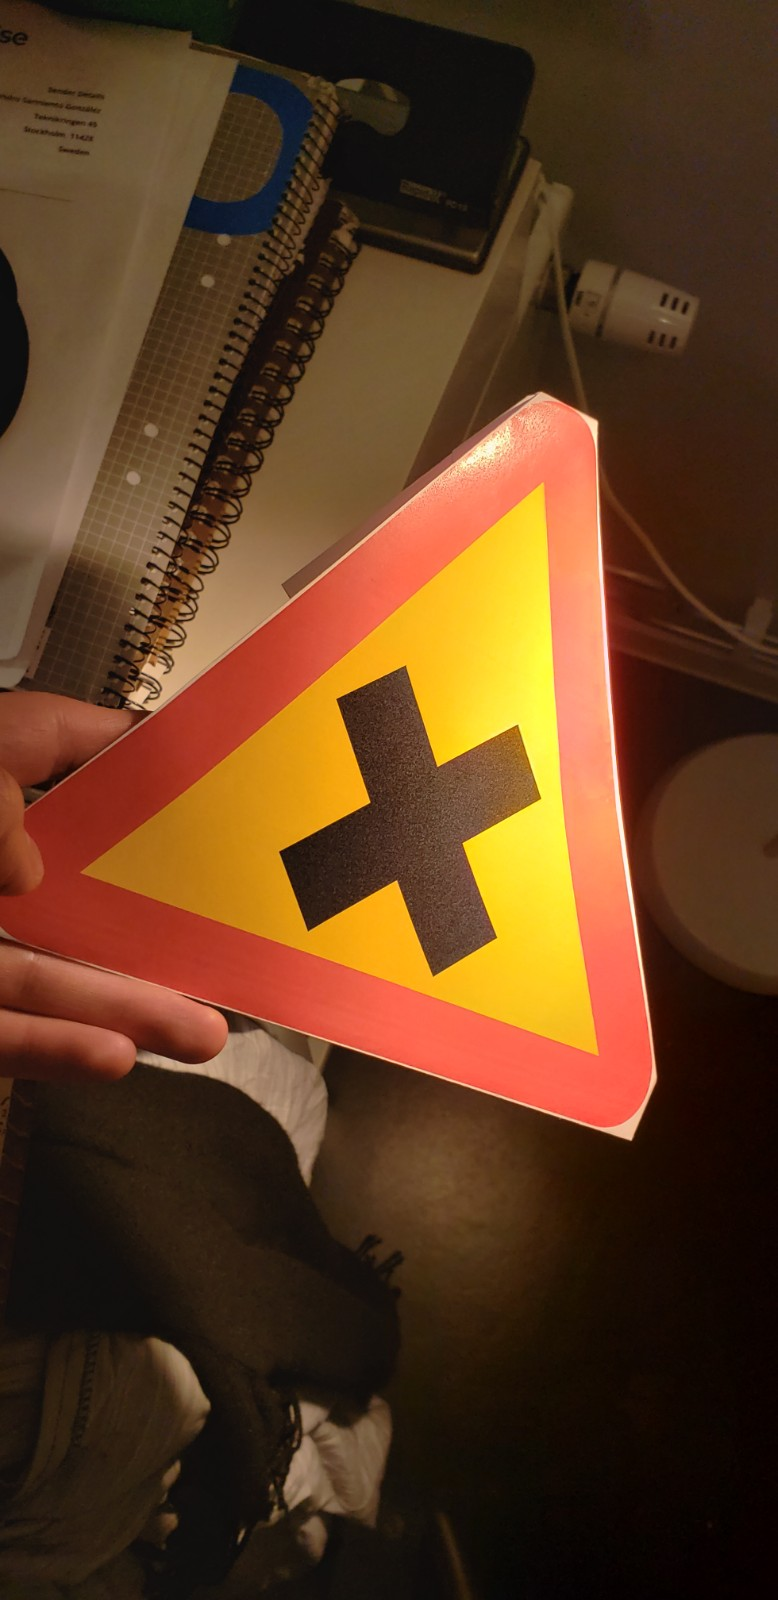junction: (74, 376, 703, 1177)
